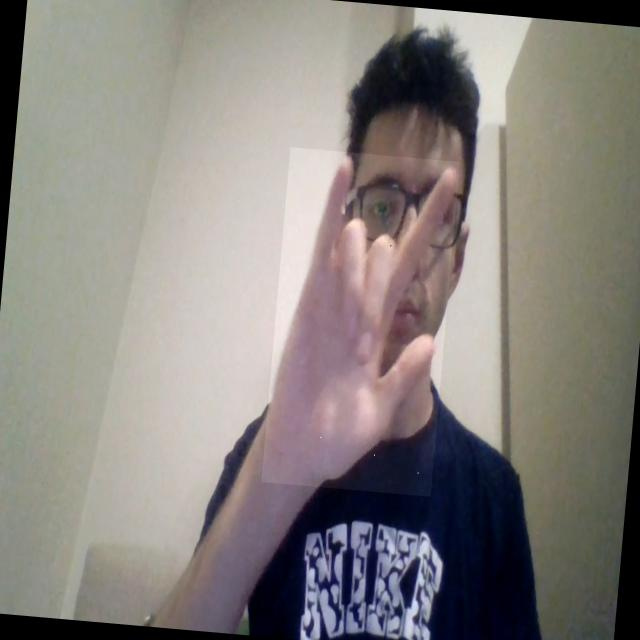iloveyou: (260, 146, 460, 496)
